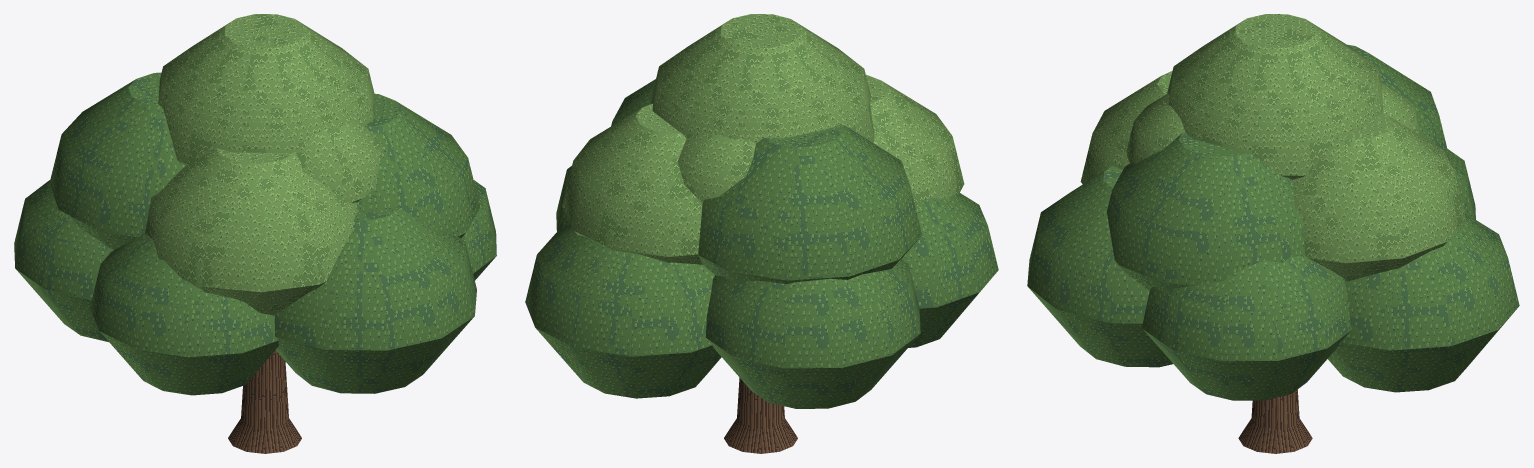
File: cn_big_tree_2.glb
3 views of the same model, side by side, from view 1: azimuth 30°, elevation 25°; view 2: azimuth 150°, elevation 25°; view 3: azimuth 270°, elevation 25° (orthographic).
Visible parts, largest first — view 1: cn_big_tree_3; view 2: cn_big_tree_3; view 3: cn_big_tree_3.
Part boxes in pixels (bbox=[...]): cn_big_tree_3: bbox=[14, 14, 496, 453]; cn_big_tree_3: bbox=[525, 14, 998, 453]; cn_big_tree_3: bbox=[1027, 14, 1519, 453].
Size of the model in its own units: 10.46 by 10.27 by 11.26.
Materials: 3 (3 with a texture image).
